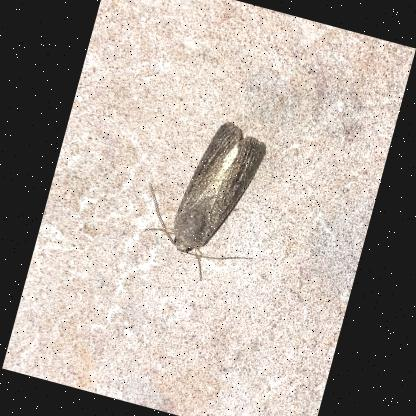Fall Armyworm Moth: (125, 102, 288, 294)
